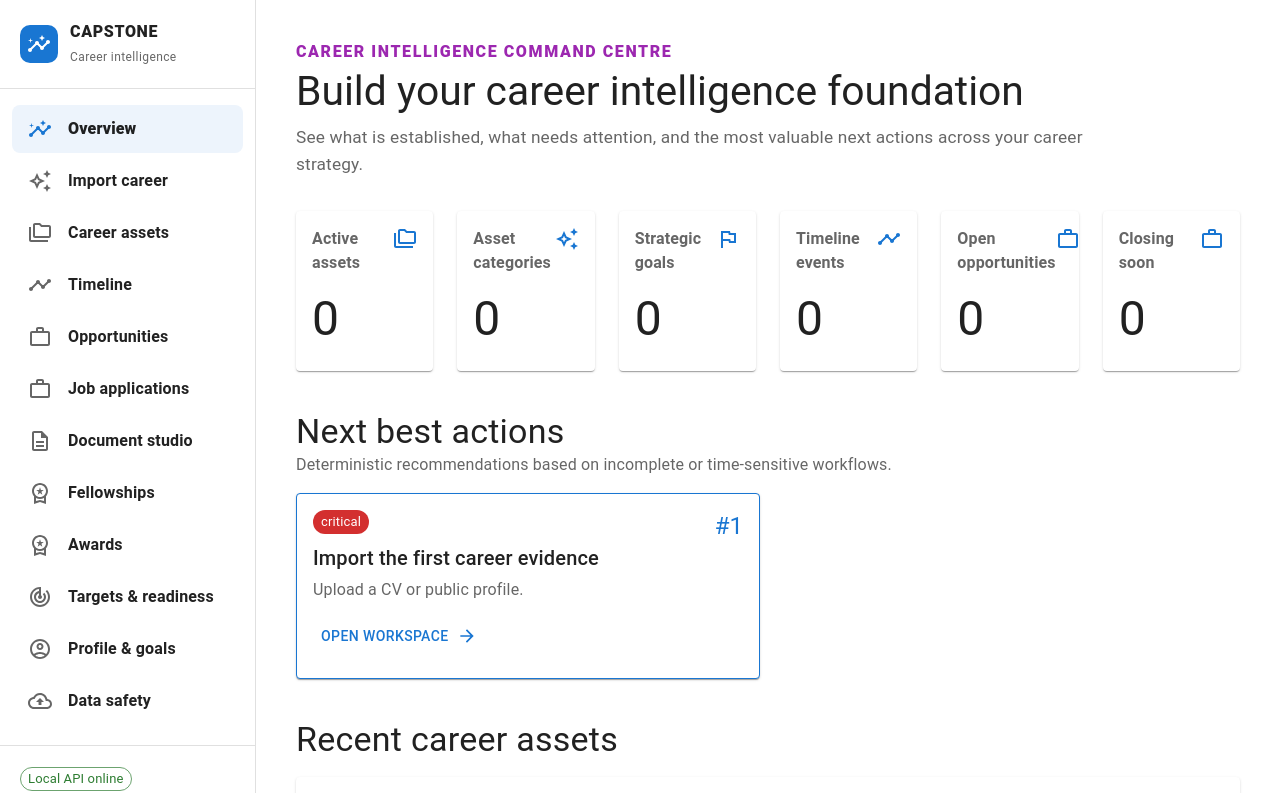
Test: App › renders the integrated overview and navigates to career assets
This screenshot has width=1280, height=793.
Expected: the heading "Build your career intelligence foundation" is shown, [296,68,1116,116]
Expected: the text "Local API online" is shown, [21,769,130,788]
Click the button "Career assets": [99, 233] box [28,221,169,245]
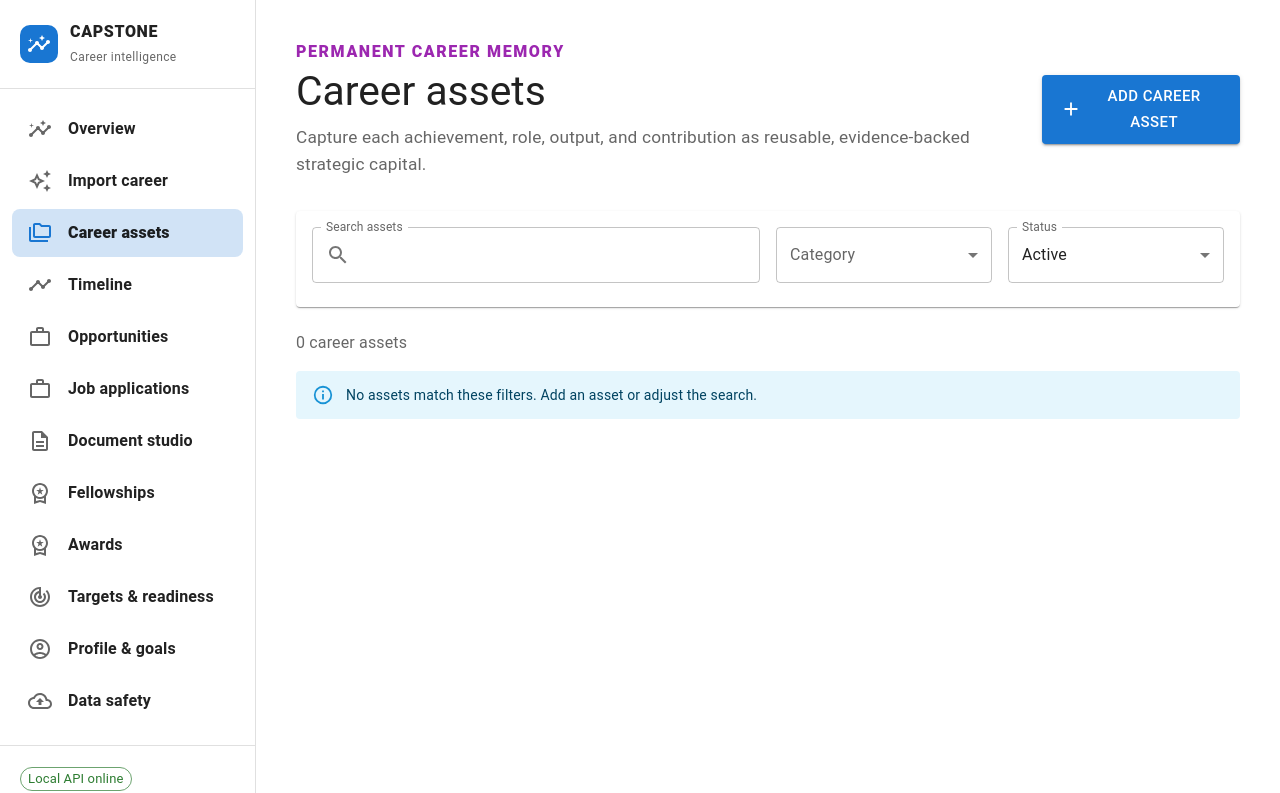
Result: the heading "Career assets" is shown at [296,67,546,115]
Result: the text "No assets match these filters" is shown at [346,387,757,403]
Click the button "Data safety": [90, 701] box [28,689,151,713]
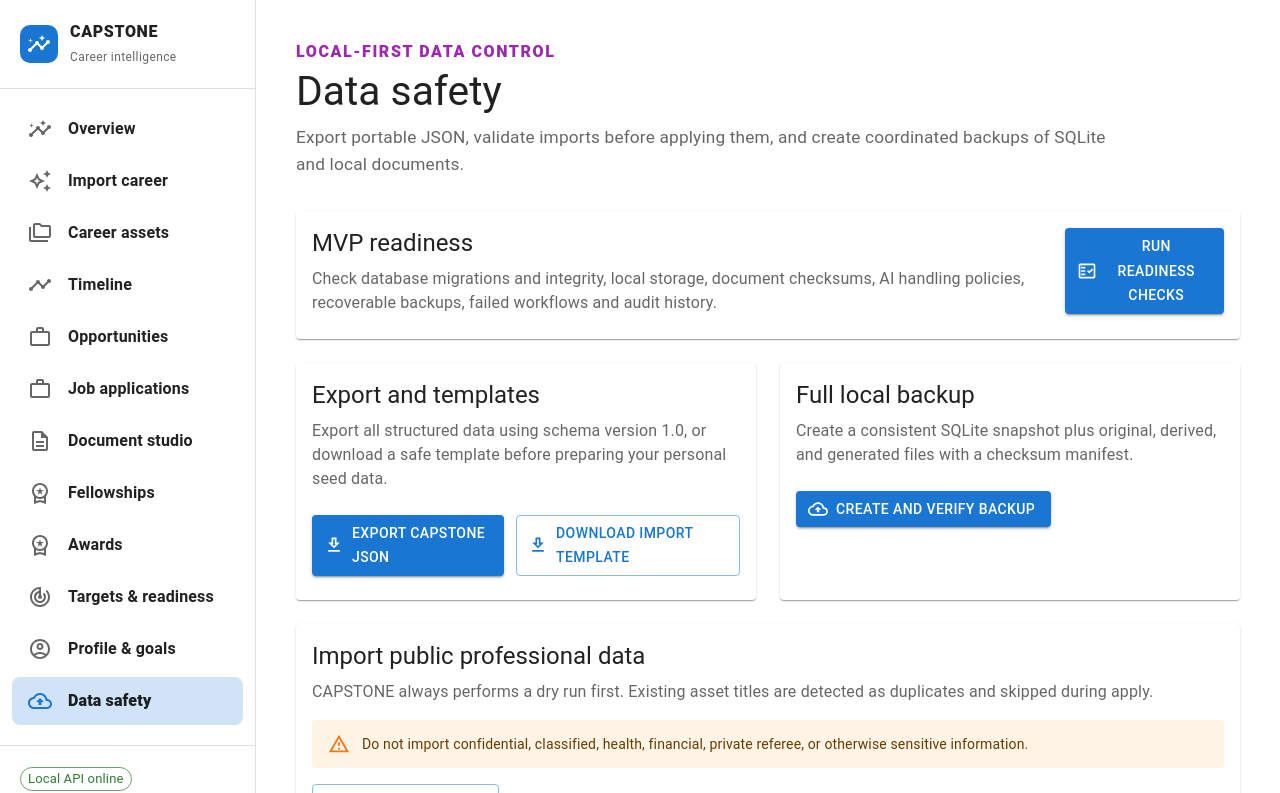
Result: the heading "Data safety" is shown at [296,67,502,115]
Click the button "Run readiness checks": [1144, 271] box [1064,228,1224,314]
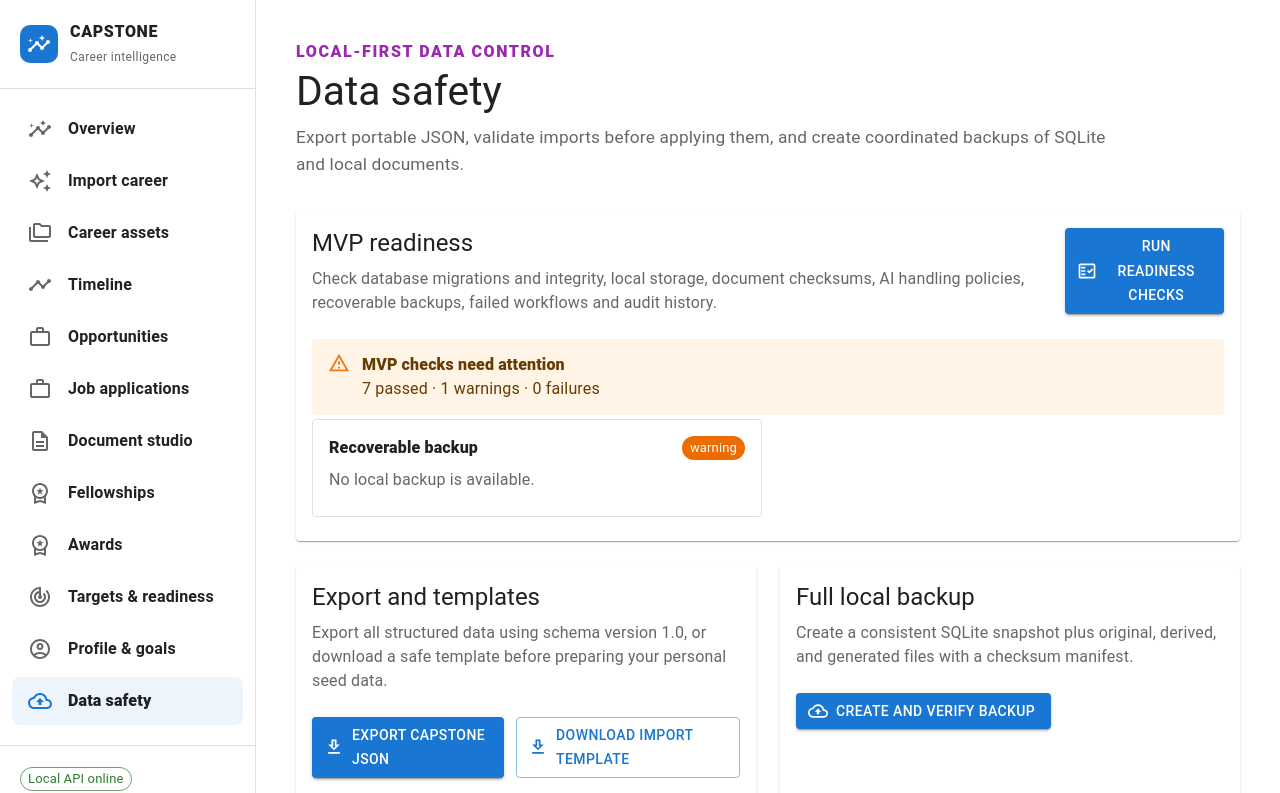
Result: the text "MVP checks need attention" is shown at [362,353,600,377]
Result: the text "No local backup is available." is shown at [329,470,535,489]
Click the button "Document studio": [110, 441] box [28,429,193,453]
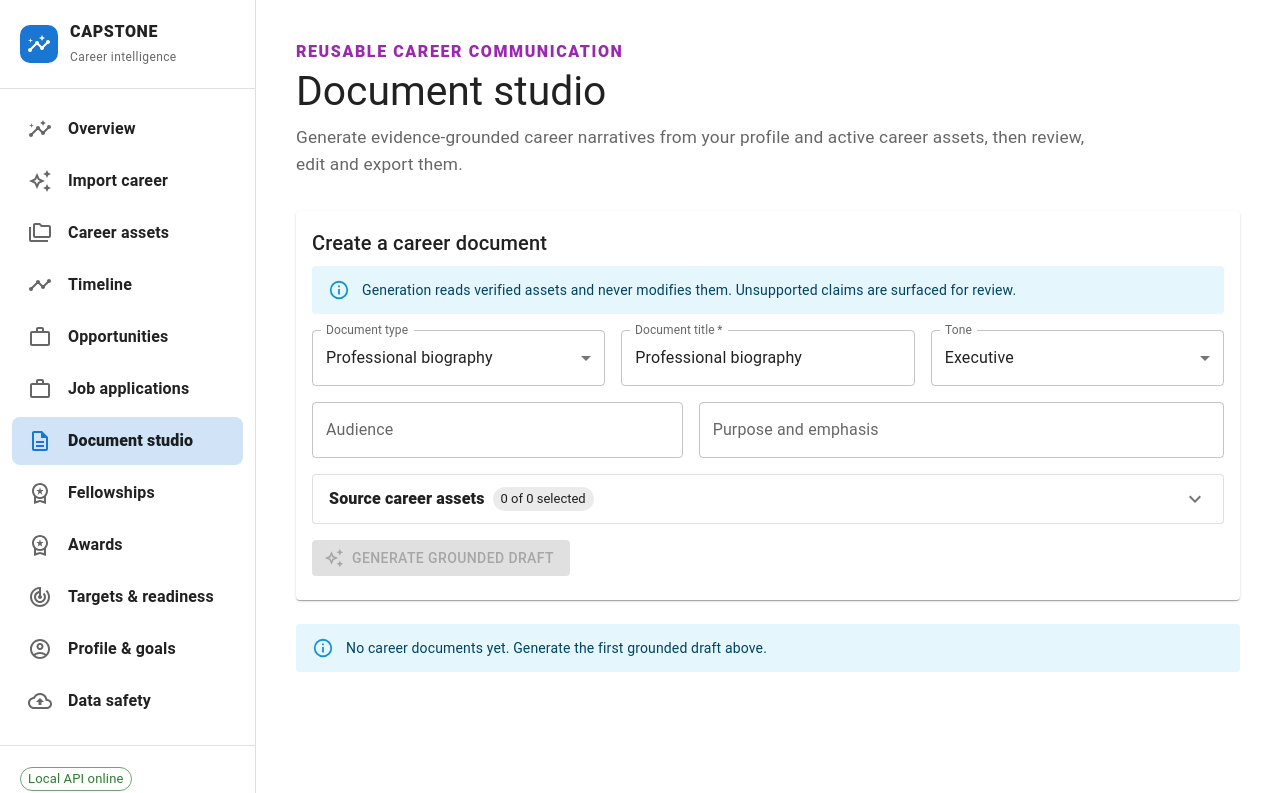
Result: the heading "Document studio" is shown at [296,67,606,115]
Result: the text "No career documents yet" is shown at [346,640,767,656]
Click the button "Fellowships": [91, 493] box [28,481,155,505]
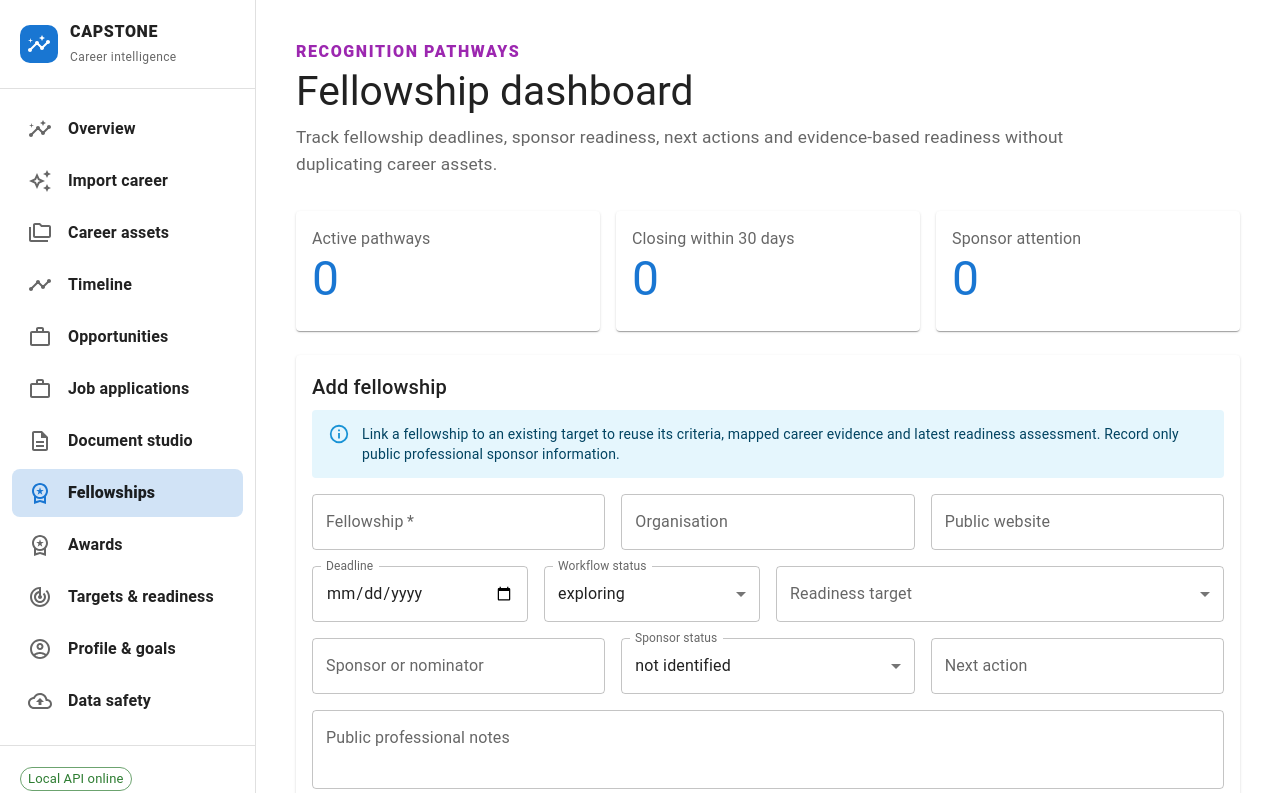
Result: the heading "Fellowship dashboard" is shown at [296,67,694,115]
Click the button "Awards": [75, 545] box [28,533,123,557]
(page scrolled)
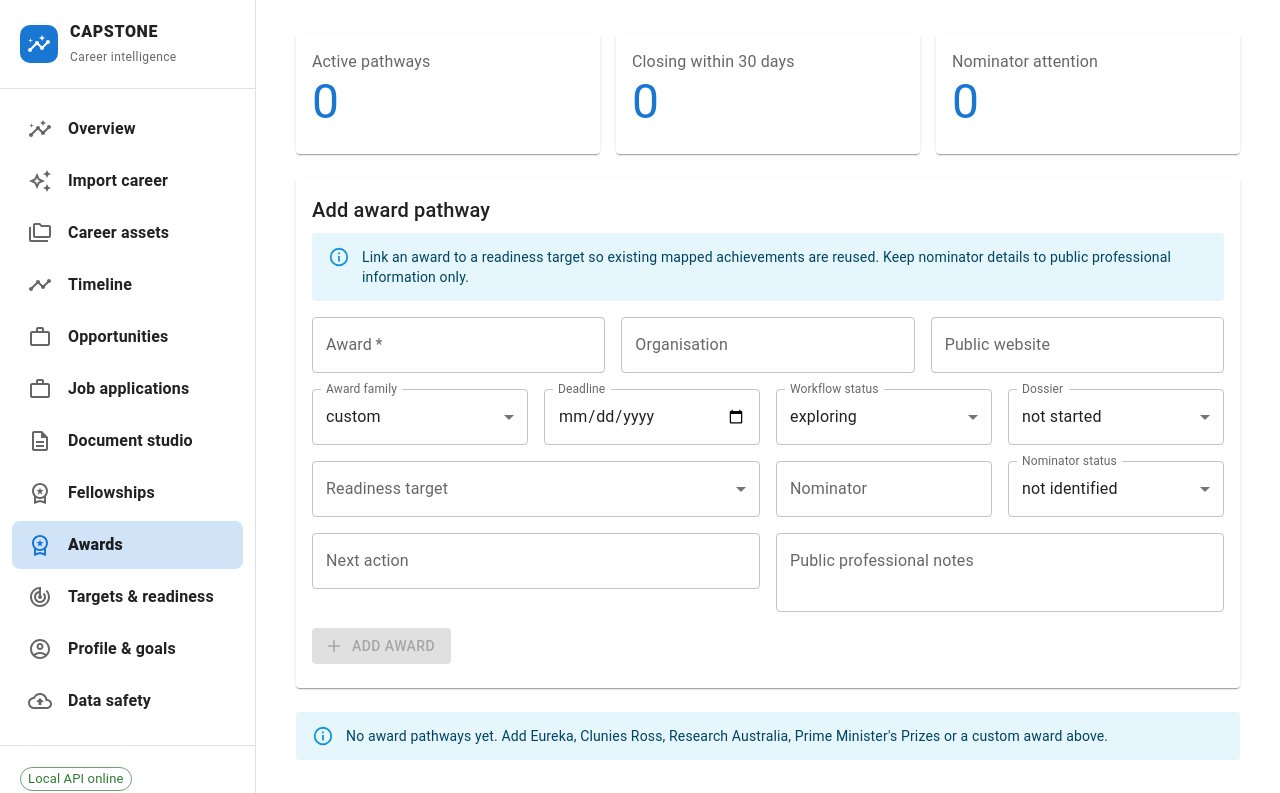
Result: the text "No award pathways yet" is shown at [346,728,1108,744]
